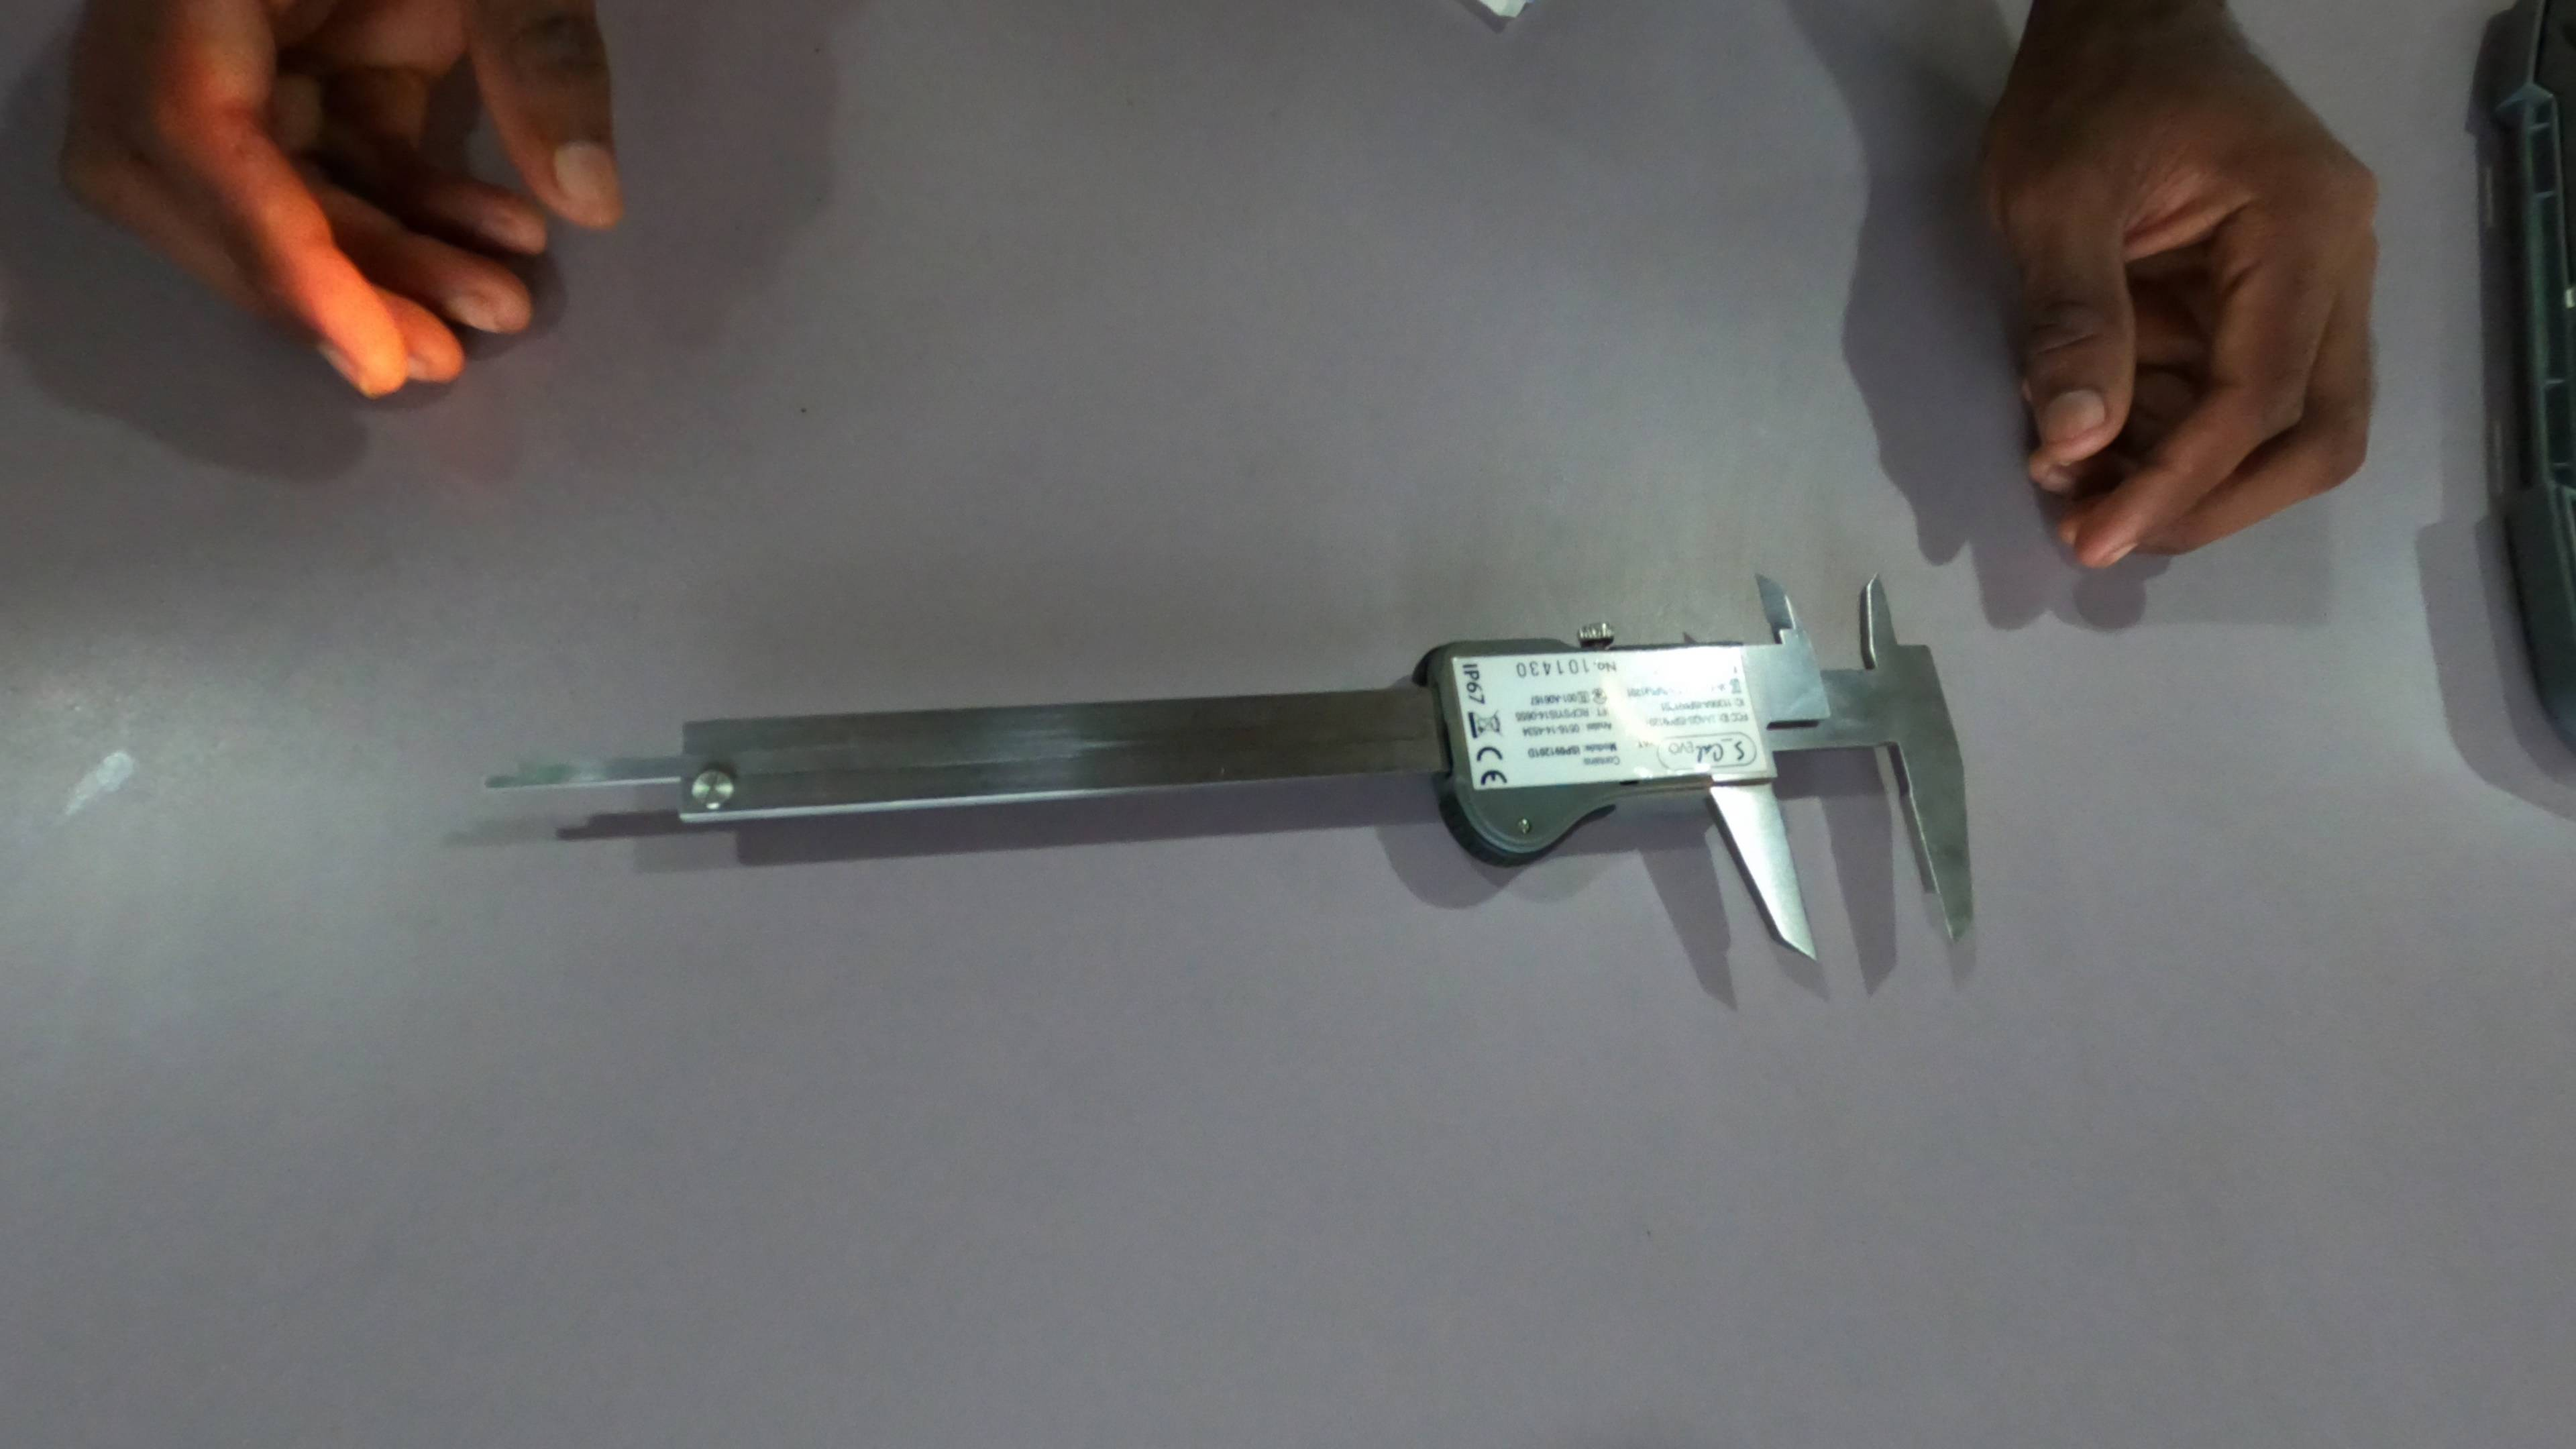vernier_caliper: (476, 575, 1987, 966)
